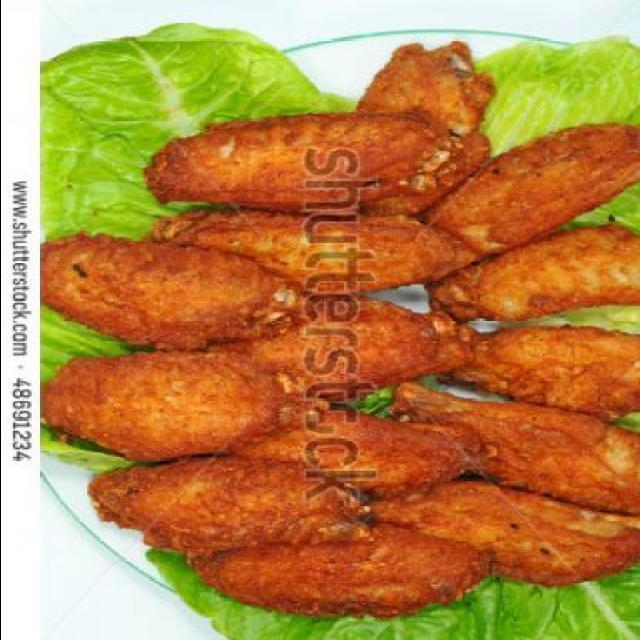Deep fried chicken wing: (60, 50, 618, 608)
